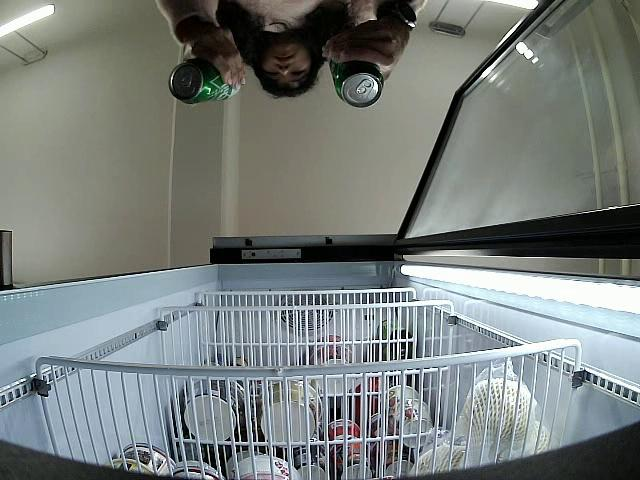00_hand: (319, 16, 407, 81), (175, 25, 247, 87)
12_chilsungCider: (168, 57, 239, 107), (327, 55, 385, 109)
